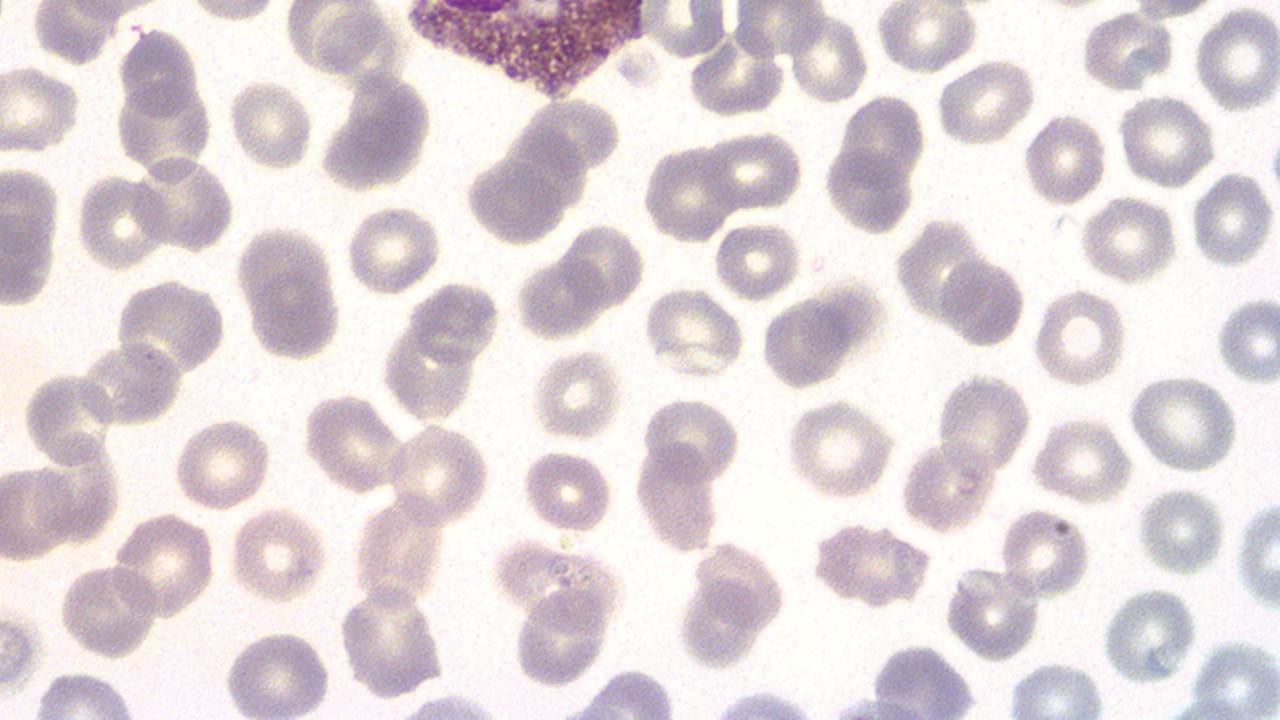Platelets: (1269, 133, 1280, 194)
RBC: (1127, 371, 1241, 474), (783, 398, 895, 502), (337, 586, 440, 698), (111, 511, 216, 619), (116, 275, 225, 378), (385, 422, 490, 528), (220, 626, 334, 716), (934, 371, 1029, 478), (1031, 287, 1129, 390), (131, 153, 232, 252), (57, 560, 158, 659), (1192, 3, 1280, 114), (228, 507, 326, 605), (1100, 586, 1198, 684), (641, 286, 744, 379), (640, 394, 740, 489), (21, 368, 116, 468), (1115, 94, 1215, 189), (759, 292, 853, 393), (77, 338, 184, 426), (942, 565, 1040, 660), (900, 438, 998, 532), (1076, 194, 1178, 284), (1029, 416, 1133, 504), (174, 417, 272, 510), (936, 58, 1039, 146), (345, 204, 442, 297), (511, 593, 606, 686), (531, 347, 622, 443), (1189, 169, 1275, 269), (998, 506, 1089, 600), (822, 142, 914, 234), (1136, 483, 1226, 576), (250, 268, 340, 361), (700, 130, 802, 212), (1022, 110, 1107, 206), (228, 78, 314, 172), (939, 255, 1025, 348), (0, 172, 58, 309), (522, 448, 612, 535), (788, 10, 870, 104), (1078, 9, 1170, 92), (875, 1, 975, 75), (0, 64, 82, 154), (0, 462, 72, 560), (714, 220, 800, 301), (1215, 291, 1279, 384), (1005, 660, 1109, 717), (732, 0, 823, 62), (1234, 495, 1280, 613), (642, 0, 726, 60), (0, 595, 41, 692)
WBC: (391, 0, 668, 103)
